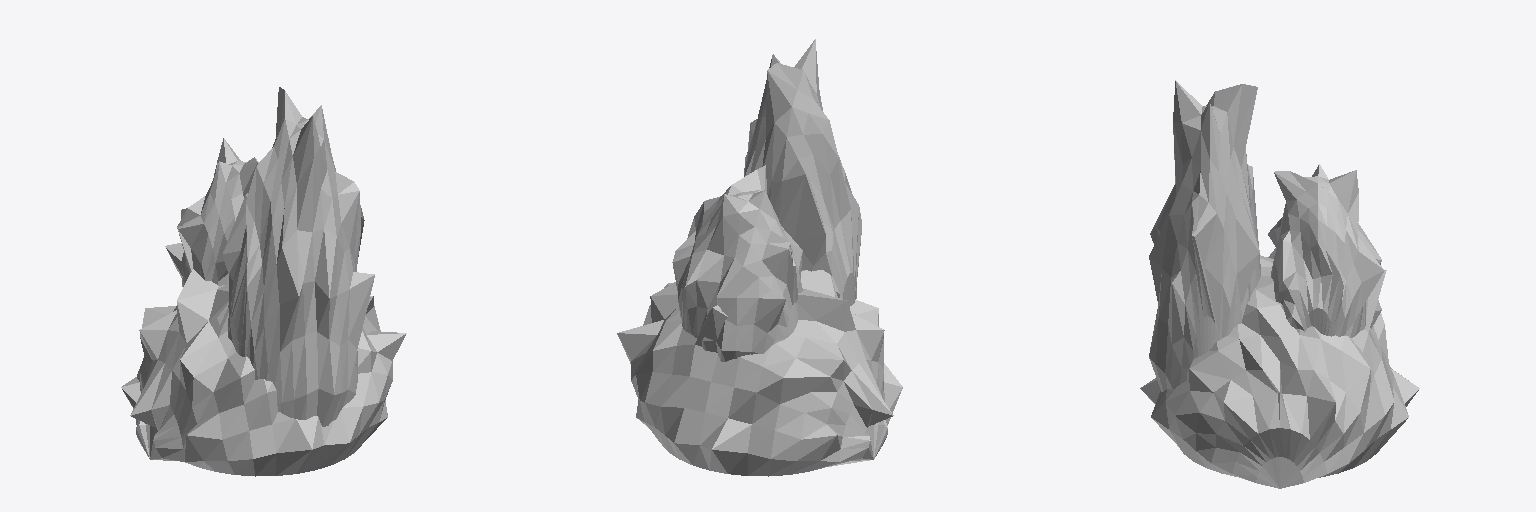
Rendered from Cristal.obj.
The picture shows the model from 3 angles: view 1: azimuth 30°, elevation 25°; view 2: azimuth 150°, elevation 25°; view 3: azimuth 270°, elevation 25°; orthographic projection.
Parts seen in each view (by area): view 1: Sphere; view 2: Sphere; view 3: Sphere.
Boxes of the visible parts, box(x1,y1,x2,y2) form: Sphere: box(121, 87, 406, 476); Sphere: box(617, 39, 902, 476); Sphere: box(1140, 80, 1419, 488).
Size of the model in its own units: 2.29 by 3.1 by 2.21.